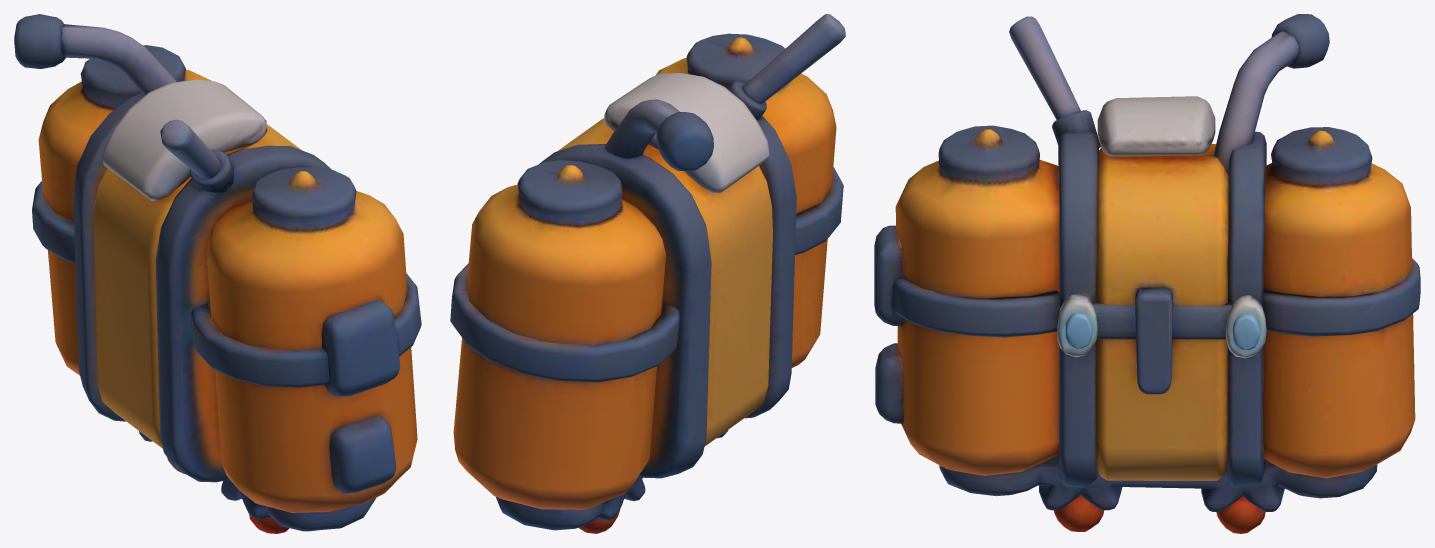
The model's file is jetpack.glb.
3 renders of one model, left to right at view 1: azimuth 30°, elevation 25°; view 2: azimuth 150°, elevation 25°; view 3: azimuth 270°, elevation 25°, orthographic. The views are drawn at different scales.
Visible parts, largest first — view 1: tripo_node_77959523-b8eb-408f-be30-e8e33195fb98; view 2: tripo_node_77959523-b8eb-408f-be30-e8e33195fb98; view 3: tripo_node_77959523-b8eb-408f-be30-e8e33195fb98.
Boxes of the visible parts, x1,y1,x2,y2 form: tripo_node_77959523-b8eb-408f-be30-e8e33195fb98: (14,14,421,533); tripo_node_77959523-b8eb-408f-be30-e8e33195fb98: (450,14,845,533); tripo_node_77959523-b8eb-408f-be30-e8e33195fb98: (874,14,1420,533).
Size of the model in its own units: 0.5449 by 0.92 by 0.998.
Materials: 1 (1 with a texture image).
